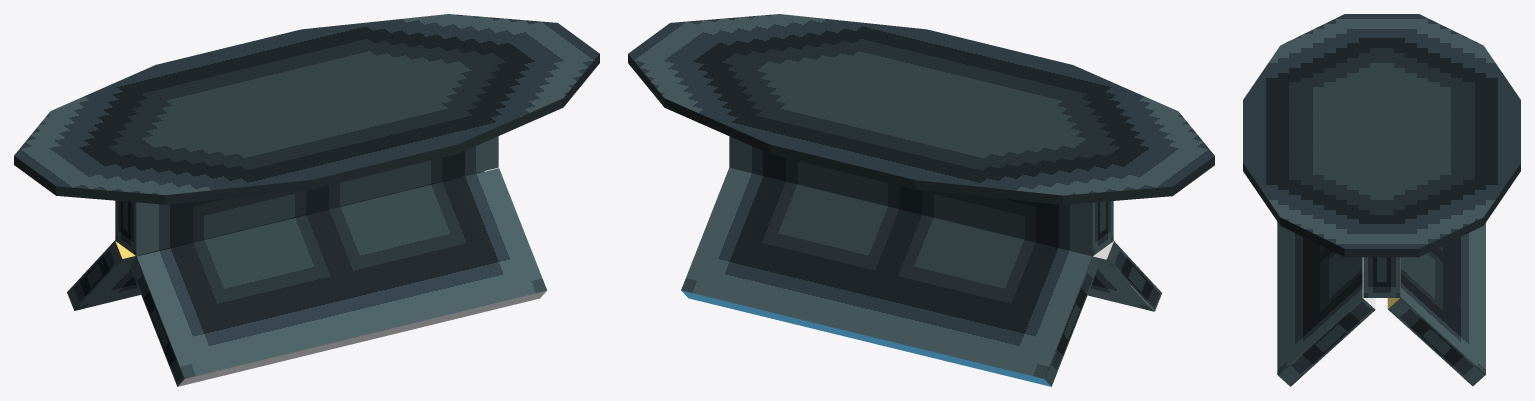
3 views of the same model, side by side, from view 1: azimuth 30°, elevation 25°; view 2: azimuth 150°, elevation 25°; view 3: azimuth 270°, elevation 25° (orthographic). The views are drawn at different scales.
Parts seen in each view (by area): view 1: cylinder, cube (×3); view 2: cylinder, cube (×3); view 3: cylinder, cube (×3).
Boxes of the visible parts, <box> form: cylinder: <box>14,14,599,204</box>; cube (×3): <box>67,136,547,386</box>; cylinder: <box>628,14,1214,204</box>; cube (×3): <box>681,136,1161,386</box>; cylinder: <box>1243,14,1520,257</box>; cube (×3): <box>1277,222,1485,386</box>.
Bounding box in the file's own units: 0.375 × 0.132 × 0.1875.
Materials: 5 (4 with a texture image).
